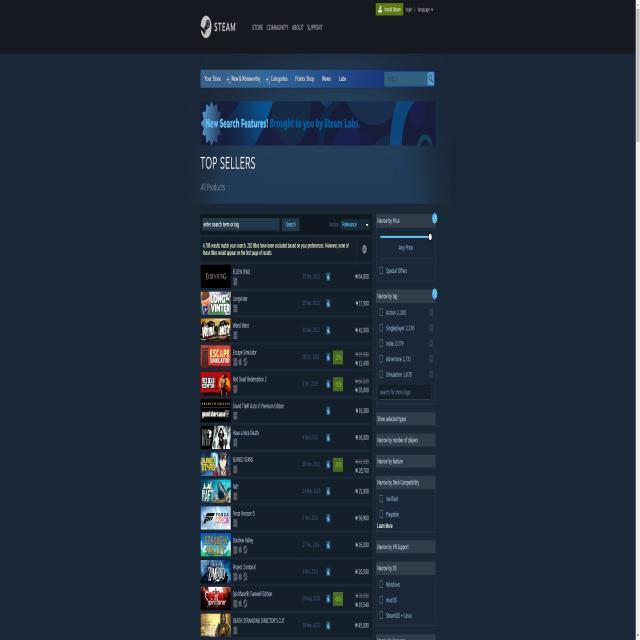menu-bar: (374, 1, 434, 20)
search: (201, 213, 301, 231), (383, 69, 435, 87)
side-panel: (374, 208, 439, 640)
tab-bar: (198, 10, 326, 43), (200, 69, 350, 89)
